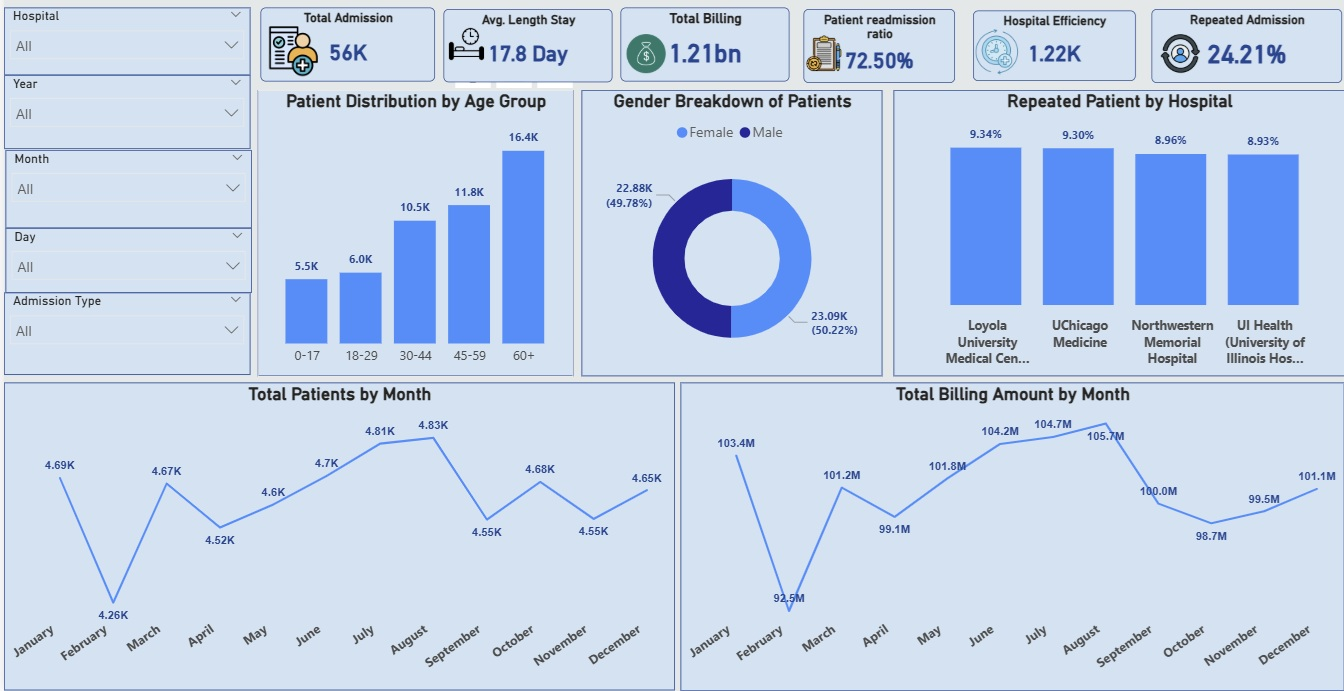

Layout of this report page (visuals, bound fields, positions):
{"tool":"powerbi","page":{"name":"KPIs Overview","canvas":[1280,720],"ordinal":0},"visuals":[{"type":"textbox","box":[0,6.2,553.3,49.7],"z":0},{"type":"card","title":"Total Admission","fields":{"Values":["Measure.Total Admission"]},"box":[244.6,67.4,166.7,70.9],"z":1000,"group":"g6"},{"type":"slicer","fields":{"Values":["Healthcare data3 (1).Hospital"]},"box":[0,67.6,235.2,64.8],"z":1000},{"type":"card","title":"Avg. Length Stay","fields":{"Values":["Measure.Avg Length of Stay"]},"box":[420.3,68.3,161.4,70],"z":2000,"group":"g5"},{"type":"slicer","fields":{"Values":["Healthcare data3 (1).Admission Type"]},"box":[0,339.4,235.2,78.9],"z":3000},{"type":"slicer","fields":{"Values":["Healthcare data3 (1).Date of Admission.Variation.Date Hierarchy.Month"]},"box":[1.4,202.8,235.2,74.6],"z":4000},{"type":"slicer","fields":{"Values":["Healthcare data3 (1).Date of Admission.Variation.Date Hierarchy.Year"]},"box":[0,132.4,235.2,70.4],"z":5000},{"type":"lineChart","fields":{"Category":["Healthcare data3 (1).Date of Admission.Variation.Date Hierarchy.Month"],"Y":["CountNonNull(Healthcare data3 (1).Name)"]},"box":[0,426,640.4,294.2],"z":6000},{"type":"lineChart","title":"Total Billing Amount by Month","fields":{"Y":["Sum(Healthcare data3 (1).Billing Amount)"],"Category":["Healthcare data3 (1).Date of Admission.Variation.Date Hierarchy.Month"]},"box":[646.5,425.4,633.8,294.4],"z":7000},{"type":"card","title":"Total Billing","fields":{"Values":["Measure.Total Billing Amount"]},"box":[589.6,67.4,161.4,70.9],"z":8000,"group":"g4"},{"type":"donutChart","title":"Gender Breakdown of Patients","fields":{"Category":["Healthcare data3 (1).Gender"],"Y":["Count(Healthcare data3 (1).Name)"]},"box":[551,146.2,287.5,273.1],"z":8000},{"type":"card","title":"Patient readmission ratio","fields":{"Values":["Measure.Readmission Rate"]},"box":[763.5,68.3,144.5,70.9],"z":9000,"group":"g3"},{"type":"clusteredColumnChart","title":"Patient Distribution by Age Group","fields":{"Category":["Healthcare data3 (1).Age Group"],"Y":["Count(Healthcare data3 (1).Name)"]},"box":[242.3,146.2,301.9,273.1],"z":9000},{"type":"slicer","fields":{"Values":["Healthcare data3 (1).Day"]},"box":[1.4,277.5,235.2,62],"z":10000},{"type":"group","id":"g1","title":"Group 1","box":[1095.1,68.3,181.8,70.9],"z":11000},{"type":"group","id":"g2","title":"Group 2","box":[916.8,70,163.2,68.3],"z":12000},{"type":"group","id":"g3","title":"Group 3","box":[760.9,68.3,147.1,70.9],"z":13000},{"type":"group","id":"g4","title":"Group 4","box":[586.1,67.4,164.9,70.9],"z":14000},{"type":"group","id":"g5","title":"Group 5","box":[418.5,68.3,163.2,70],"z":15000},{"type":"card","title":"Hospital Efficiency","fields":{"Values":["Measure.Hospital Efficiency"]},"box":[924.8,70,155.2,67.6],"z":15000,"group":"g2"},{"type":"group","id":"g6","title":"Group 6","box":[244.6,67.4,166.7,71.8],"z":16000},{"type":"card","title":"Repeated Admission","fields":{"Values":["Measure.RepeatedPatientPercentage"]},"box":[1095.1,68.3,181.8,70.9],"z":16000,"group":"g1"},{"type":"image","box":[1147.4,14.2,52.3,41.7],"z":17000},{"type":"image","box":[1098.6,86.9,48.8,47.9],"z":17004,"group":"g1"},{"type":"image","box":[586.1,86.9,54.1,47.9],"z":17005,"group":"g4"},{"type":"image","box":[760.9,86.9,44.3,47.9],"z":17006,"group":"g3"},{"type":"image","box":[244.6,77.2,62.1,62.1],"z":17007,"group":"g6"},{"type":"image","box":[916.8,80.2,62.1,58.1],"z":17008,"group":"g2"},{"type":"image","box":[418.5,69.6,46.1,63.5],"z":17009,"group":"g5"},{"type":"image","box":[1211.2,14.2,50.5,41.7],"z":18000},{"type":"clusteredColumnChart","title":"Repeated Patient by Hospital","fields":{"Category":["Healthcare data3 (1).Hospital"],"Y":["Measure.RepeatedPatientPercentage"]},"box":[848.9,145.6,431.1,273.3],"z":19000}]}

Visuals, with their boxes on the page's 1280x720 design canvas (x1, y1, x2, y2). These are canvas units, not pixel positions in the 1344x691 screenshot, which may show the page scaled, cropped or inside an application window:
textbox: (left=0, top=6, right=553, bottom=56)
"Total Admission" card: (left=245, top=67, right=411, bottom=138)
slicer - Healthcare data3 (1).Hospital: (left=0, top=68, right=235, bottom=132)
"Avg. Length Stay" card: (left=420, top=68, right=582, bottom=138)
slicer - Healthcare data3 (1).Admission Type: (left=0, top=339, right=235, bottom=418)
slicer - Healthcare data3 (1).Date of Admission.Variation.Date Hierarchy.Month: (left=1, top=203, right=237, bottom=277)
slicer - Healthcare data3 (1).Date of Admission.Variation.Date Hierarchy.Year: (left=0, top=132, right=235, bottom=203)
lineChart - Healthcare data3 (1).Date of Admission.Variation.Date Hierarchy.Month x CountNonNull(Healthcare data3 (1).Name): (left=0, top=426, right=640, bottom=720)
"Total Billing Amount by Month" lineChart: (left=646, top=425, right=1280, bottom=720)
"Total Billing" card: (left=590, top=67, right=751, bottom=138)
"Gender Breakdown of Patients" donutChart: (left=551, top=146, right=838, bottom=419)
"Patient readmission ratio" card: (left=764, top=68, right=908, bottom=139)
"Patient Distribution by Age Group" clusteredColumnChart: (left=242, top=146, right=544, bottom=419)
slicer - Healthcare data3 (1).Day: (left=1, top=278, right=237, bottom=340)
"Group 1" group: (left=1095, top=68, right=1277, bottom=139)
"Group 2" group: (left=917, top=70, right=1080, bottom=138)
"Group 3" group: (left=761, top=68, right=908, bottom=139)
"Group 4" group: (left=586, top=67, right=751, bottom=138)
"Group 5" group: (left=418, top=68, right=582, bottom=138)
"Hospital Efficiency" card: (left=925, top=70, right=1080, bottom=138)
"Group 6" group: (left=245, top=67, right=411, bottom=139)
"Repeated Admission" card: (left=1095, top=68, right=1277, bottom=139)
image: (left=1147, top=14, right=1200, bottom=56)
image: (left=1099, top=87, right=1147, bottom=135)
image: (left=586, top=87, right=640, bottom=135)
image: (left=761, top=87, right=805, bottom=135)
image: (left=245, top=77, right=307, bottom=139)
image: (left=917, top=80, right=979, bottom=138)
image: (left=418, top=70, right=465, bottom=133)
image: (left=1211, top=14, right=1262, bottom=56)
"Repeated Patient by Hospital" clusteredColumnChart: (left=849, top=146, right=1280, bottom=419)
